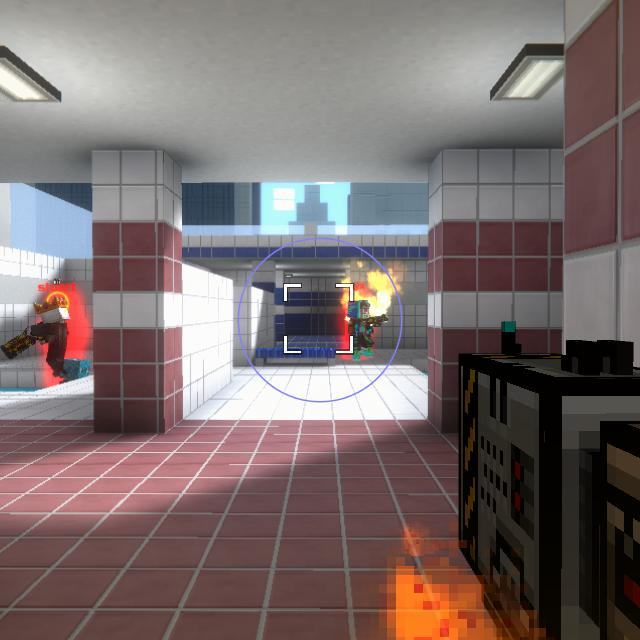Enemy: (29, 299, 67, 375), (345, 299, 376, 359)
